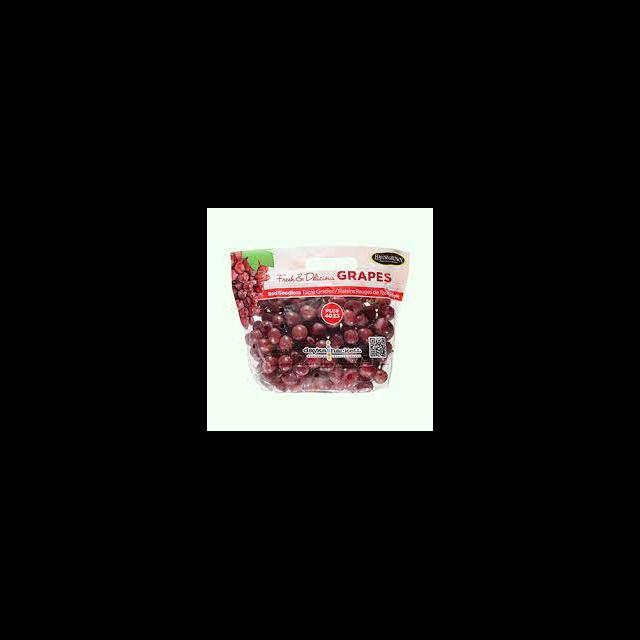grape: (243, 286, 391, 392)
